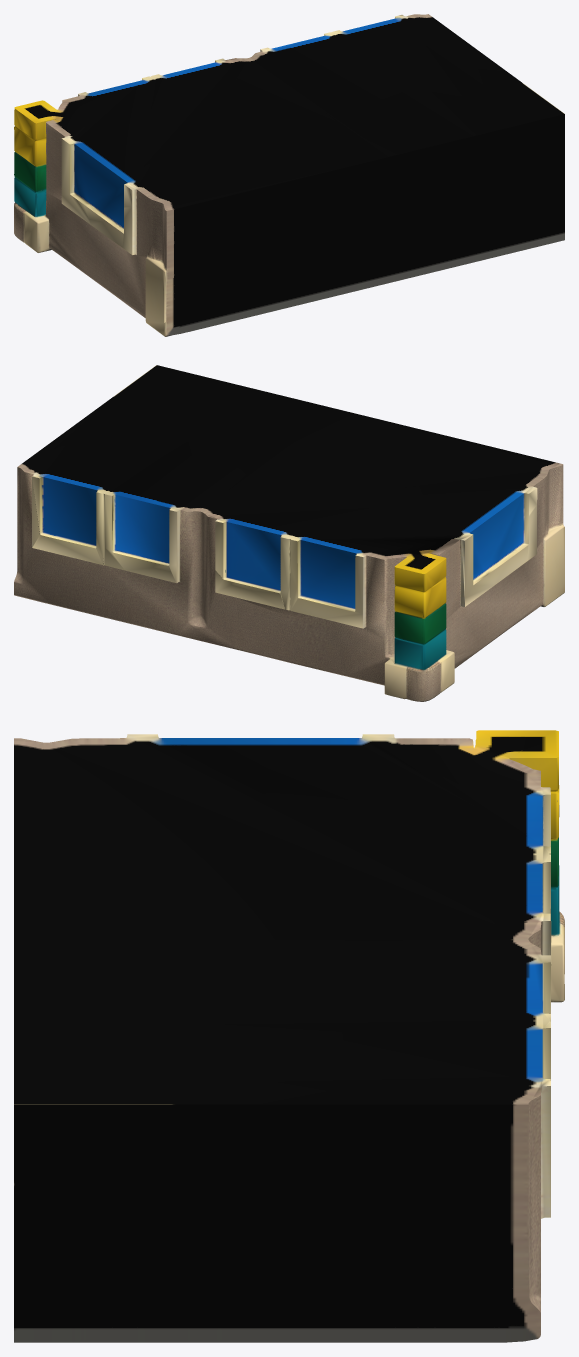
Rendered from 3-ground-floor-back-left.fbx.
3 views of the same model, one above another, from view 1: azimuth 30°, elevation 25°; view 2: azimuth 150°, elevation 25°; view 3: azimuth 270°, elevation 25° (orthographic). The views are drawn at different scales.
Parts seen in each view (by area): view 1: ground-floor-back-left; view 2: ground-floor-back-left; view 3: ground-floor-back-left.
Boxes of the visible parts, bbox=[...] form: ground-floor-back-left: bbox=[14, 14, 564, 336]; ground-floor-back-left: bbox=[14, 365, 564, 701]; ground-floor-back-left: bbox=[14, 730, 564, 1342].
Size of the model in its own units: 7426 by 2185 by 4583.
Materials: 1 (1 with a texture image).
